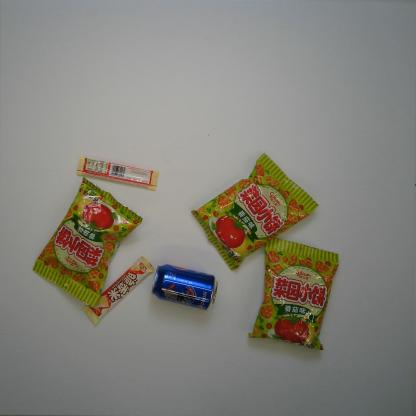Chocolate: (83, 256, 155, 325), (76, 156, 159, 191)
Drink: (150, 264, 218, 311)
Puffed Food: (191, 152, 320, 272), (31, 176, 144, 309), (248, 238, 340, 351)
